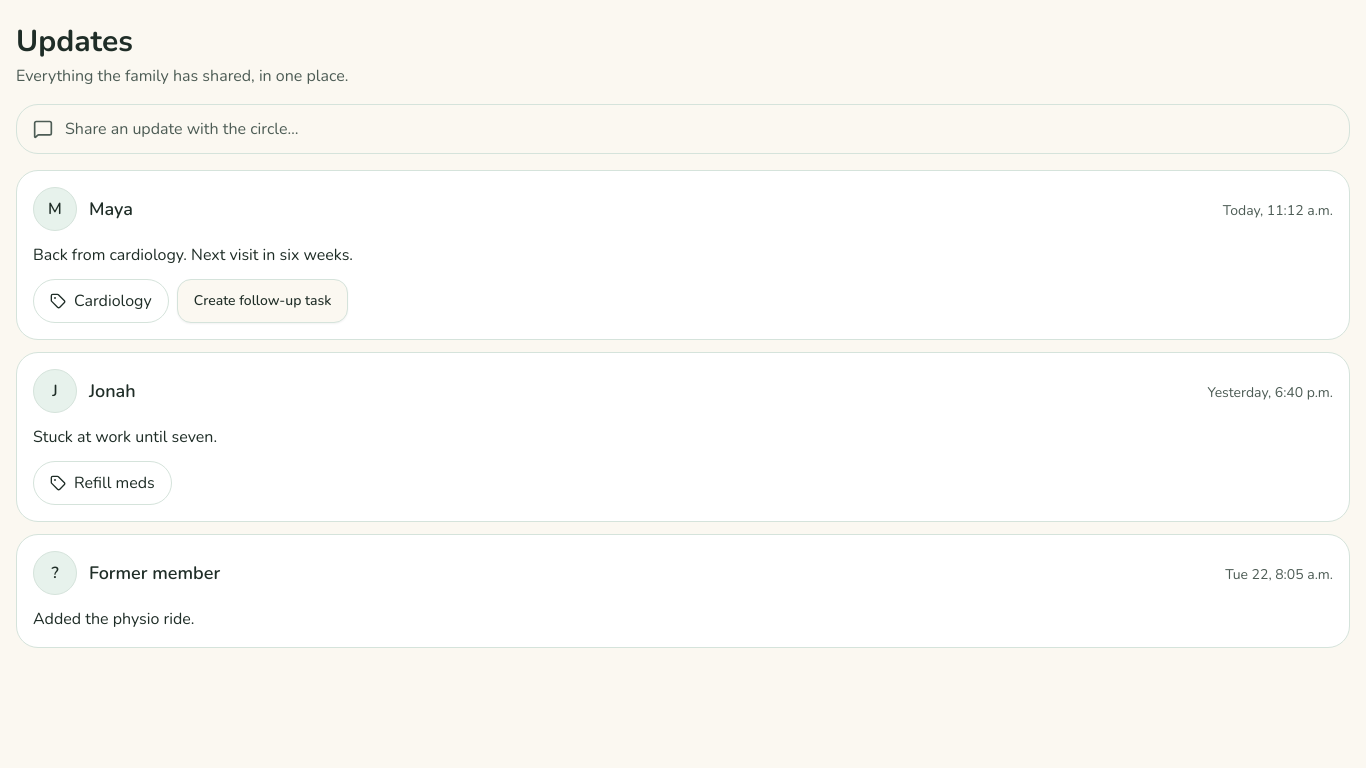
Test: the share box opens the New update sheet
The width and height of the screenshot is (1366, 768).
Click the button "Share an update with the circle…": (182, 129) [16,104,1350,154]
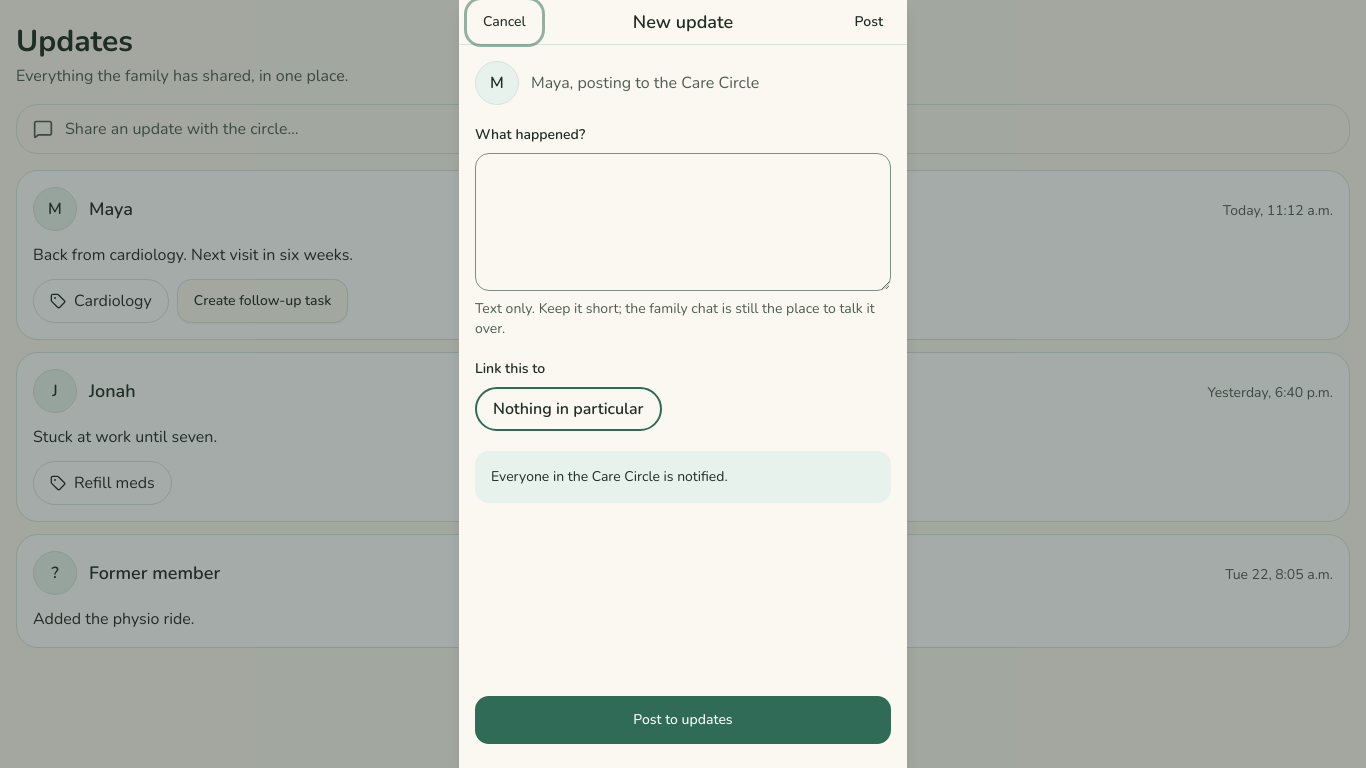
In the text box labelled "What happened?": (683, 222) [475,153,891,291], type "All good"
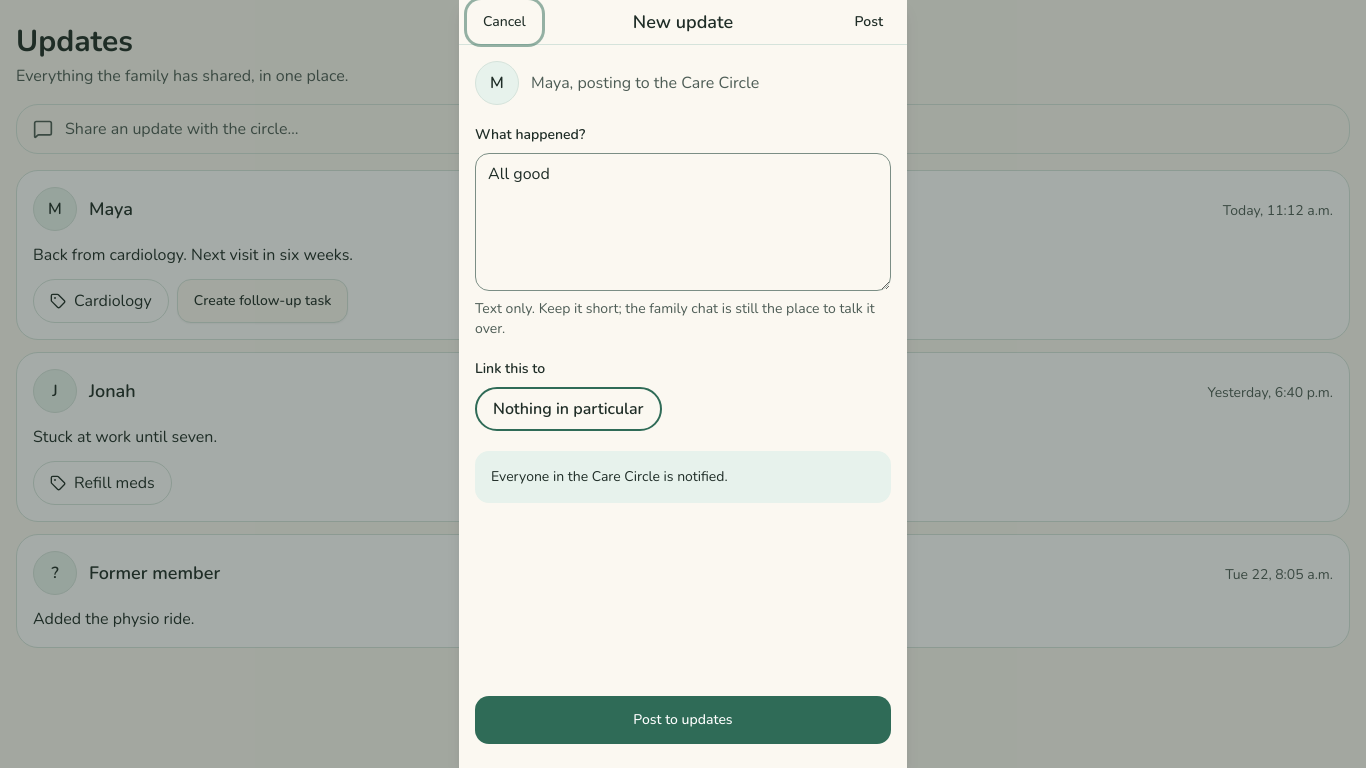
Click the button "Post to updates": (683, 720) [475,696,891,744]
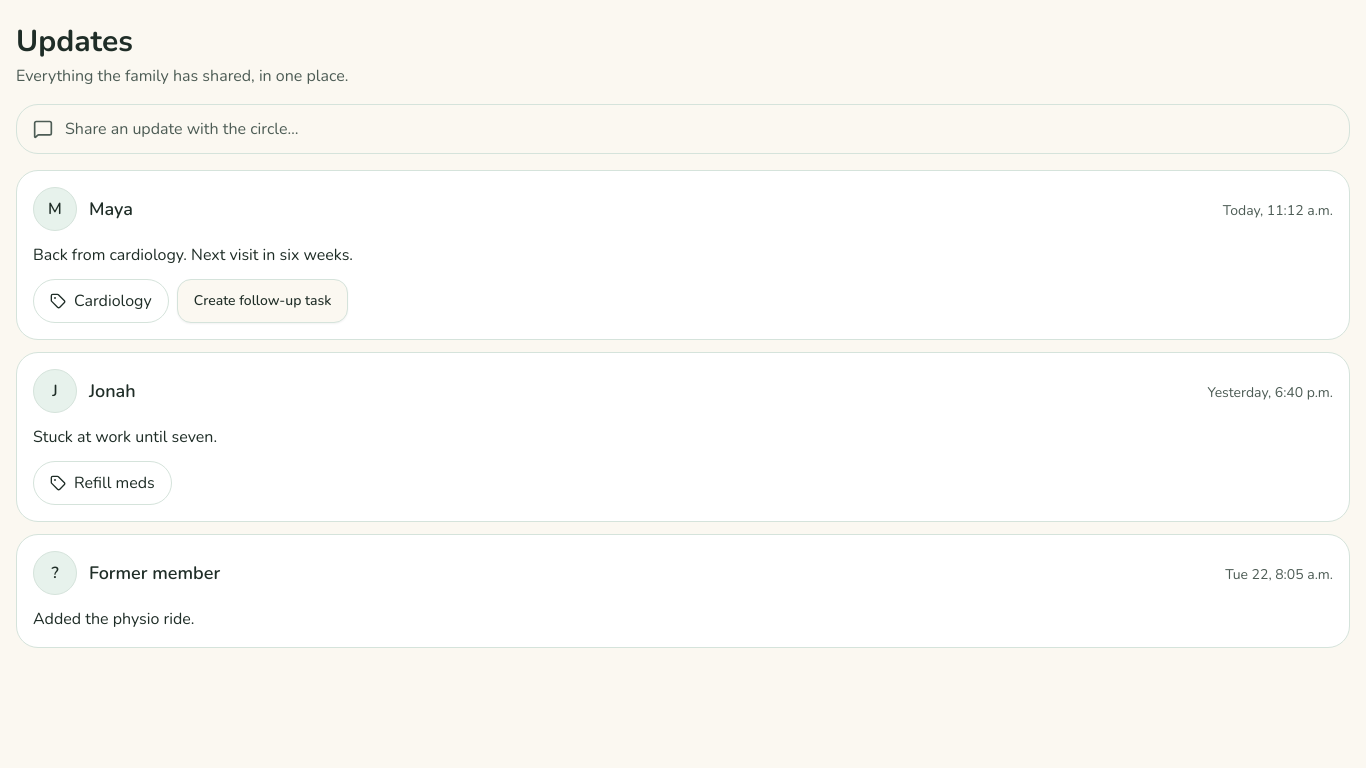
expect the dialog is gone: met
